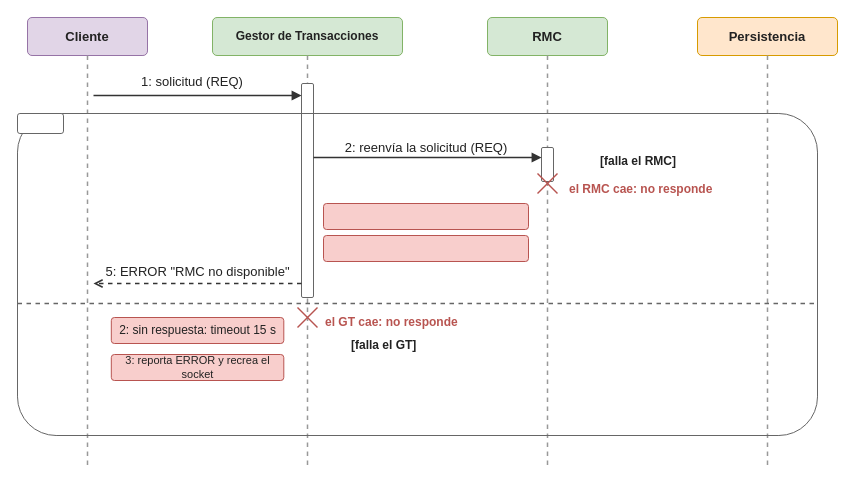
Some shapes in this 856 by 489 pixel diagram are drawn without their labels. Here are the shapes that lost their labels. From the top down, the centre of each, then its label:
the point at 40,123: alt
the point at 425,216: 3: sin respuesta: timeout 10 s
the point at 425,248: 4: recrea su socket REQ
